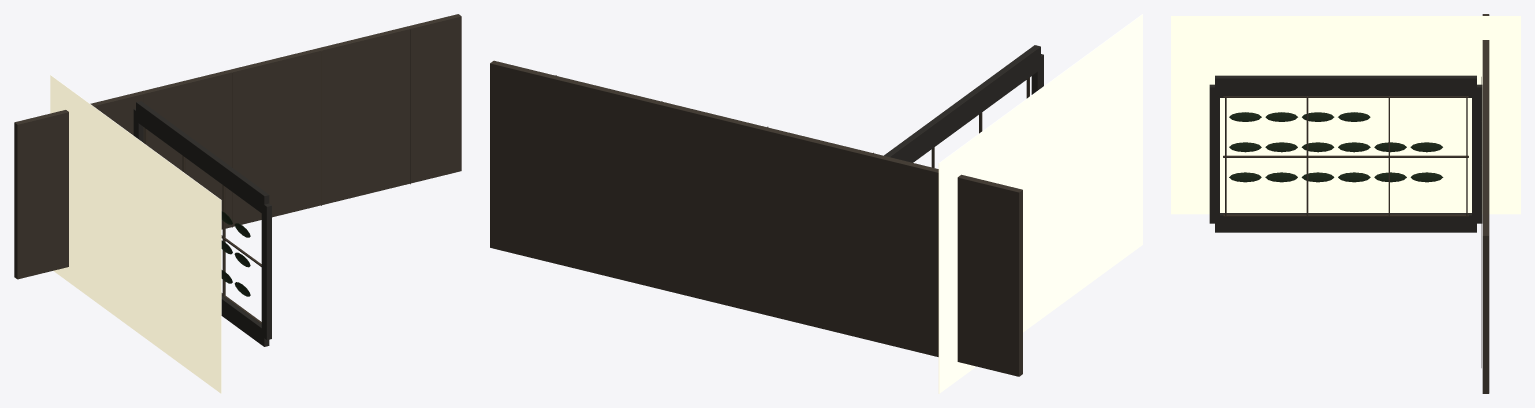
Rendered from restaurant-room.gltf.
3 renders of one model, left to right at view 1: azimuth 30°, elevation 25°; view 2: azimuth 150°, elevation 25°; view 3: azimuth 270°, elevation 25°, orthographic. The views are drawn at different scales.
Parts seen in each view (by area): view 1: Back_marble_wall, Exterior_luminous_backdrop, Left_wall_top, Left_wall_end, Left_wall_base; view 2: Back_marble_wall, Exterior_luminous_backdrop, Left_wall_top; view 3: Exterior_luminous_backdrop, Left_wall_top, Left_wall_base, Back_marble_wall, Left_wall_end.001, Left_wall_end, Window_horizontal_mullion, Window_horizontal_mullion.001, Window_horizontal_mullion.002, Window_vertical_mullion.001.
Part boxes in pixels (x1,y1,x2,y2): Back_marble_wall: [14, 14, 461, 279]; Exterior_luminous_backdrop: [50, 75, 221, 393]; Left_wall_top: [136, 101, 269, 214]; Left_wall_end: [261, 203, 271, 339]; Left_wall_base: [221, 295, 269, 346]; Back_marble_wall: [490, 60, 1022, 376]; Exterior_luminous_backdrop: [938, 14, 1142, 393]; Left_wall_top: [884, 45, 1040, 162]; Exterior_luminous_backdrop: [1171, 16, 1520, 214]; Left_wall_top: [1215, 75, 1476, 97]; Left_wall_base: [1215, 213, 1476, 232]; Back_marble_wall: [1482, 14, 1489, 393]; Left_wall_end.001: [1472, 84, 1482, 223]; Left_wall_end: [1209, 84, 1219, 223]; Window_horizontal_mullion: [1223, 214, 1468, 216]; Window_horizontal_mullion.001: [1223, 155, 1468, 157]; Window_horizontal_mullion.002: [1223, 96, 1468, 97]; Window_vertical_mullion.001: [1306, 96, 1308, 215].
Size of what is drawn, in the model's own units: 12 by 5 by 8.
